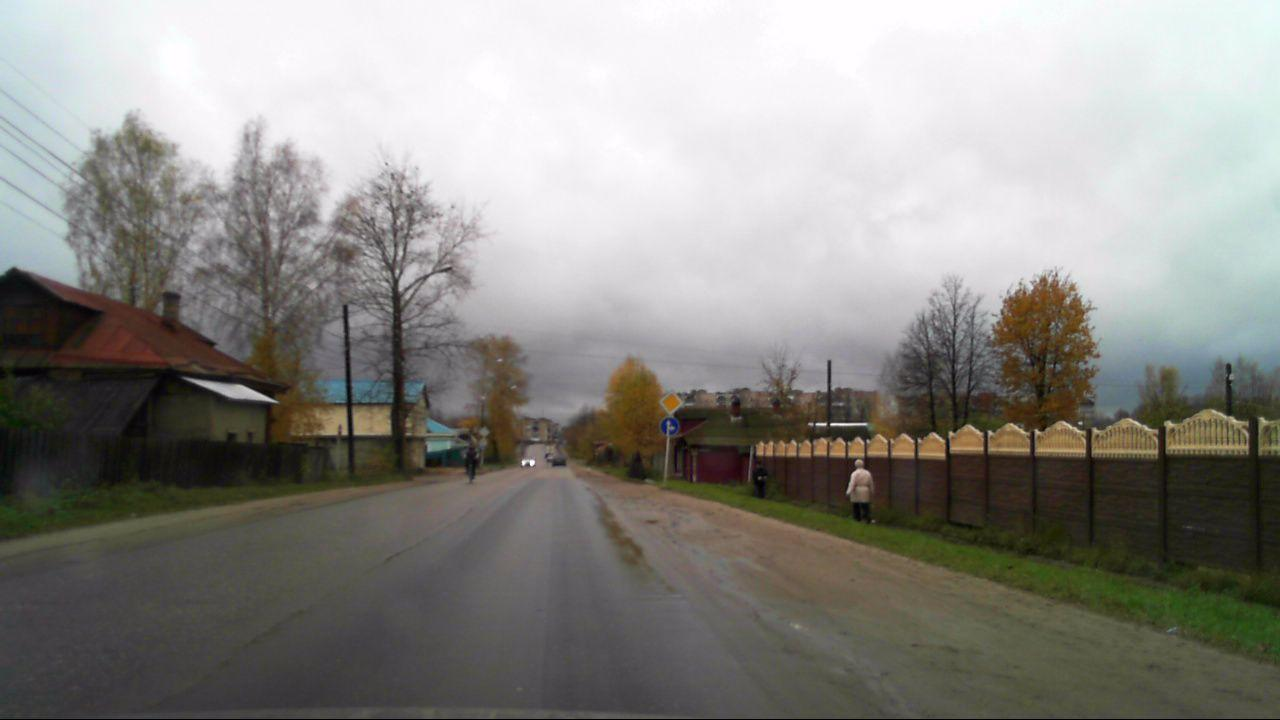road_sign: (658, 388, 685, 417), (660, 417, 680, 437)
